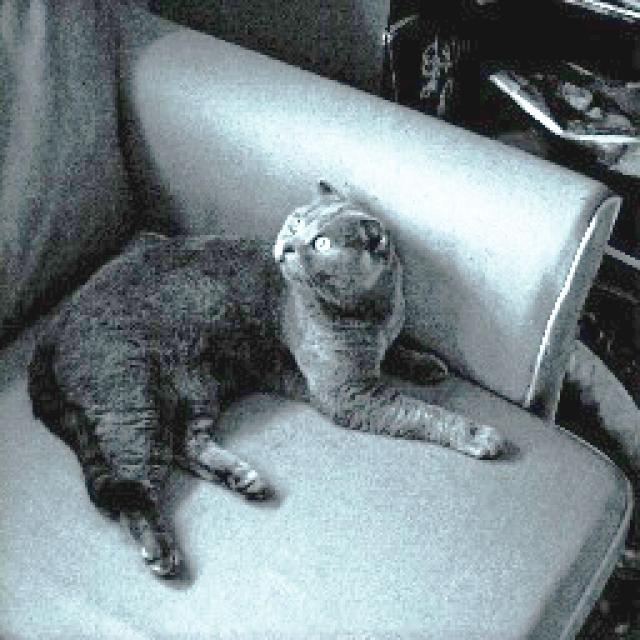cat: (22, 175, 522, 586)
